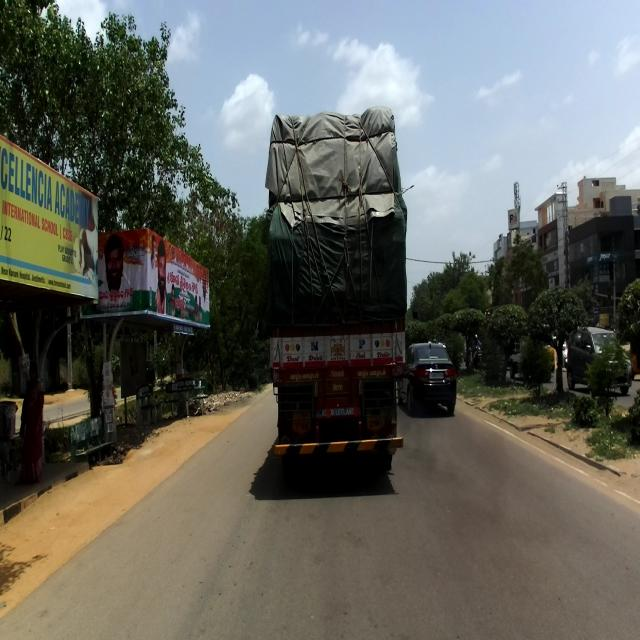Car_Honda: (397, 342, 456, 415)
Car_Maruti-Suzuki: (566, 327, 632, 397)
truck: (265, 106, 407, 470)
